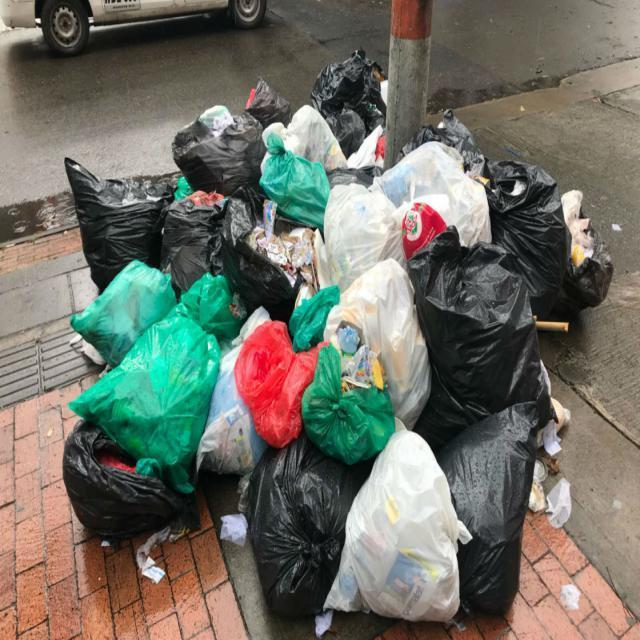Trashbag: (408, 251, 562, 451), (241, 434, 372, 623), (448, 407, 550, 626), (484, 159, 616, 315), (60, 418, 201, 542), (60, 153, 166, 278), (225, 206, 308, 326), (175, 112, 269, 199), (309, 53, 388, 150), (160, 190, 234, 279), (398, 114, 480, 174)
